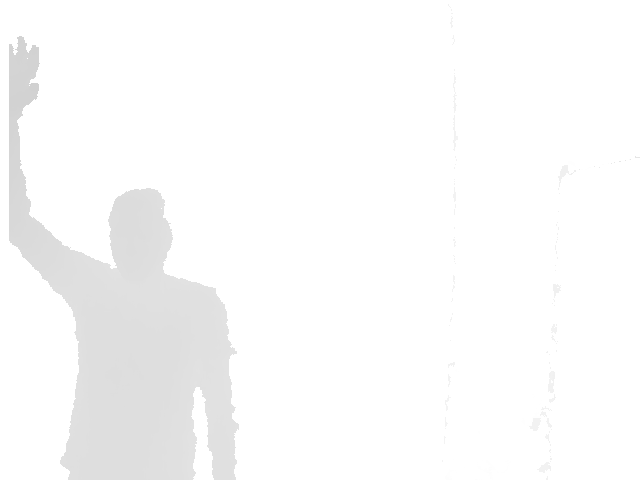hand: (8, 36, 41, 108)
head: (108, 187, 173, 276)
person: (8, 36, 240, 480)
